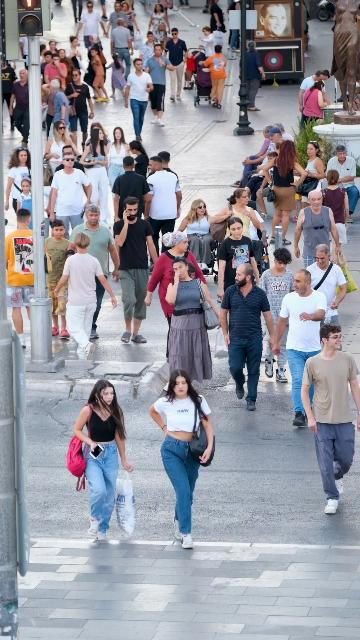person: (148, 369, 215, 550), (300, 323, 360, 515), (71, 378, 133, 546), (272, 269, 328, 428), (218, 262, 276, 411), (54, 232, 118, 361), (165, 256, 220, 384), (69, 204, 120, 339), (113, 197, 158, 345), (144, 231, 208, 327), (258, 248, 295, 384), (263, 139, 307, 247), (5, 208, 35, 347), (44, 219, 78, 338), (46, 155, 93, 239), (293, 190, 341, 269), (216, 217, 260, 303), (144, 156, 181, 254), (306, 244, 347, 326), (214, 188, 268, 247), (318, 170, 350, 264), (79, 129, 110, 226), (230, 125, 274, 189), (142, 44, 175, 127), (179, 199, 216, 273), (326, 145, 360, 224), (111, 156, 151, 223), (292, 141, 325, 221), (124, 59, 154, 142), (64, 69, 94, 151), (241, 128, 283, 185), (3, 147, 31, 224), (44, 120, 81, 174), (298, 69, 330, 129), (198, 45, 226, 109), (164, 28, 188, 102), (238, 151, 278, 194), (9, 69, 30, 150), (104, 127, 131, 187), (243, 41, 266, 111), (110, 18, 134, 80), (302, 80, 331, 125), (87, 46, 110, 102), (74, 2, 109, 38), (47, 88, 71, 140), (41, 80, 62, 137), (148, 3, 171, 54), (208, 0, 227, 52), (256, 163, 273, 221), (13, 179, 32, 230), (105, 54, 125, 101), (126, 140, 150, 179), (56, 145, 85, 174), (183, 48, 200, 90), (121, 1, 139, 38), (157, 151, 179, 179), (139, 31, 157, 65), (89, 122, 111, 147), (200, 26, 216, 60), (60, 58, 73, 93), (41, 51, 53, 79), (45, 40, 58, 57)
